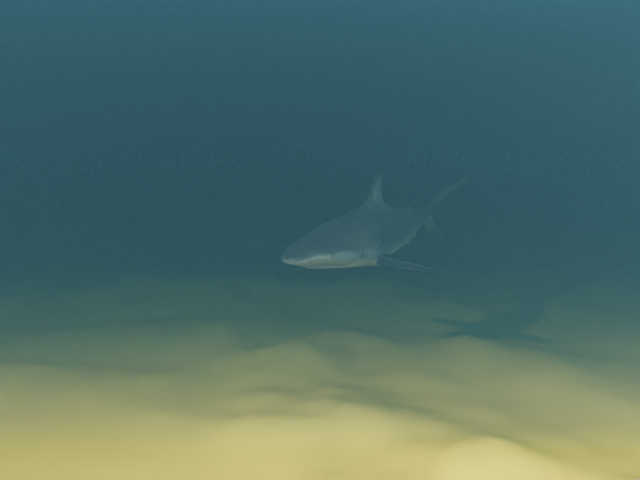Carribean Shark.001: (281, 168, 477, 274)
